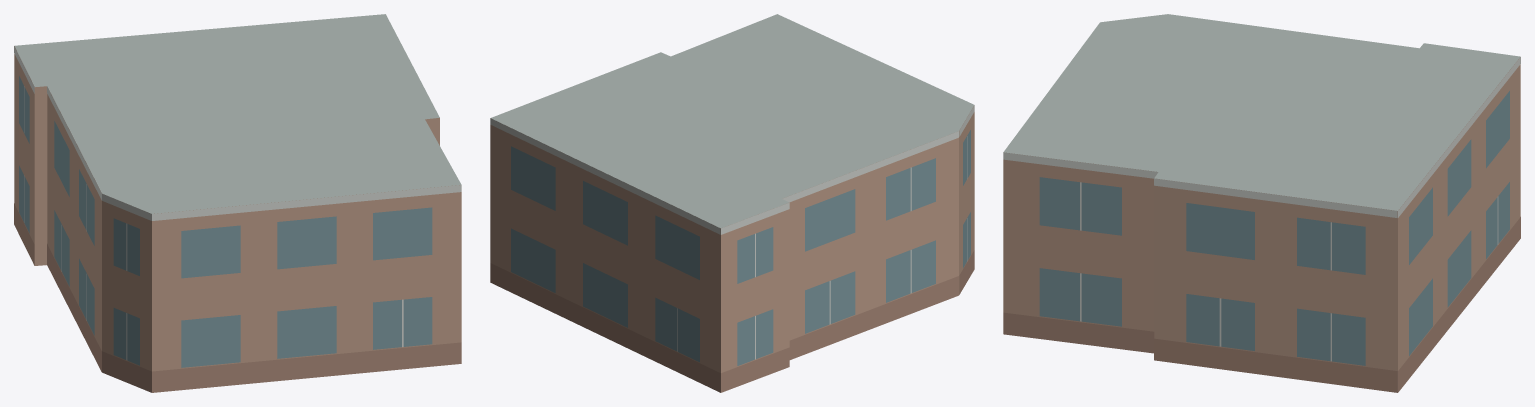
File: survey-upis-32804668.glb
The picture shows the model from 3 angles, left to right: view 1: azimuth 30°, elevation 25°; view 2: azimuth 150°, elevation 25°; view 3: azimuth 270°, elevation 25°; orthographic projection. The views are drawn at different scales.
Parts seen in each view (by area): view 1: survey-upis-32804668.tmp; view 2: survey-upis-32804668.tmp; view 3: survey-upis-32804668.tmp.
Boxes of the visible parts, left/top/right/bottom form: survey-upis-32804668.tmp: left=14, top=14, right=461, bottom=392; survey-upis-32804668.tmp: left=490, top=14, right=974, bottom=392; survey-upis-32804668.tmp: left=1003, top=14, right=1520, bottom=392.
Size of the model in its own units: 14.17 by 6.1 by 15.73.
